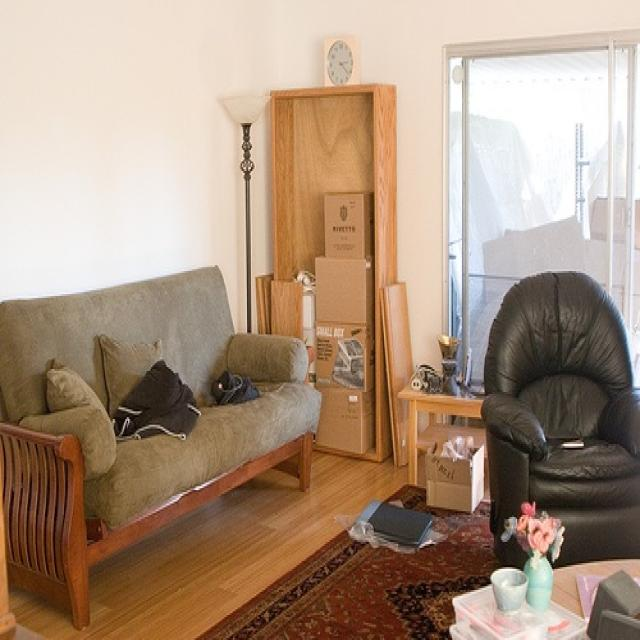chair: (481, 270, 640, 564)
sofa: (1, 264, 322, 629)
